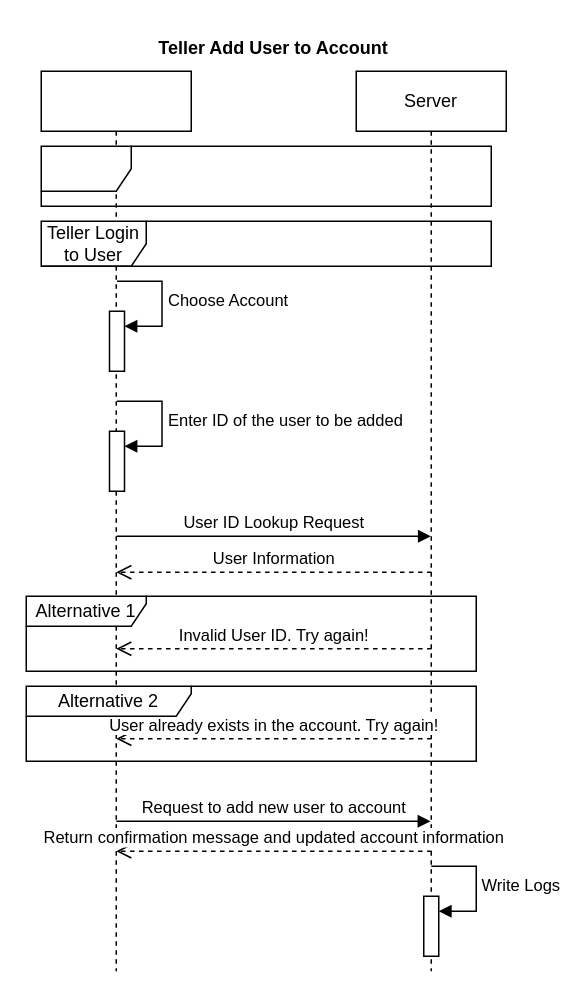
This 587x998 diagram has some shape labels left out. Here are the shapes that lost their labels. From the top down, the box of each, then its label:
(40, 145, 491, 206): Teller Login
(40, 70, 191, 971): Teller Application
